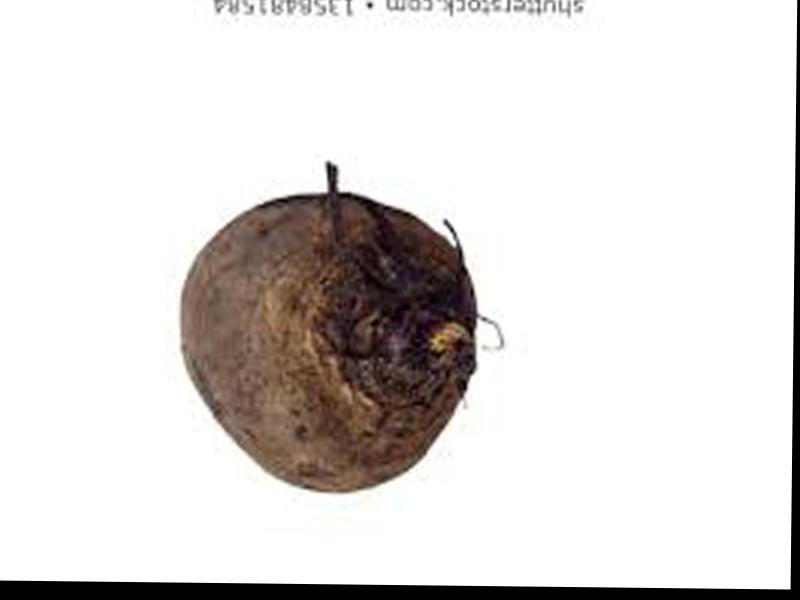Beet: (175, 193, 474, 493)
